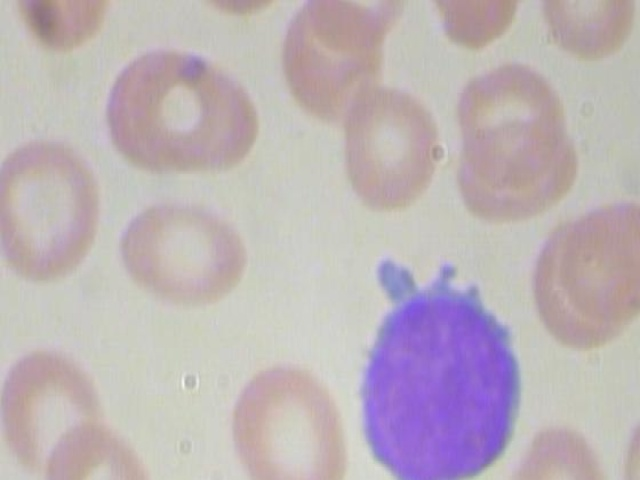RBC: (128, 42, 265, 179), (223, 355, 358, 480), (114, 183, 251, 306), (0, 132, 101, 292), (330, 77, 445, 217), (447, 54, 567, 186), (0, 345, 107, 480), (554, 190, 640, 321), (42, 420, 166, 480), (529, 0, 640, 63), (297, 0, 417, 57), (5, 0, 121, 56), (513, 418, 610, 480), (423, 0, 533, 51), (180, 0, 306, 22)
WBC: (338, 239, 543, 480)
